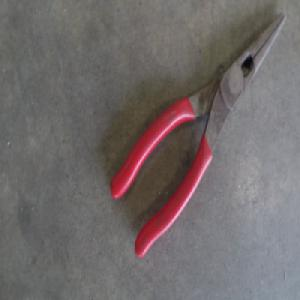Pliers: (106, 6, 278, 256)
